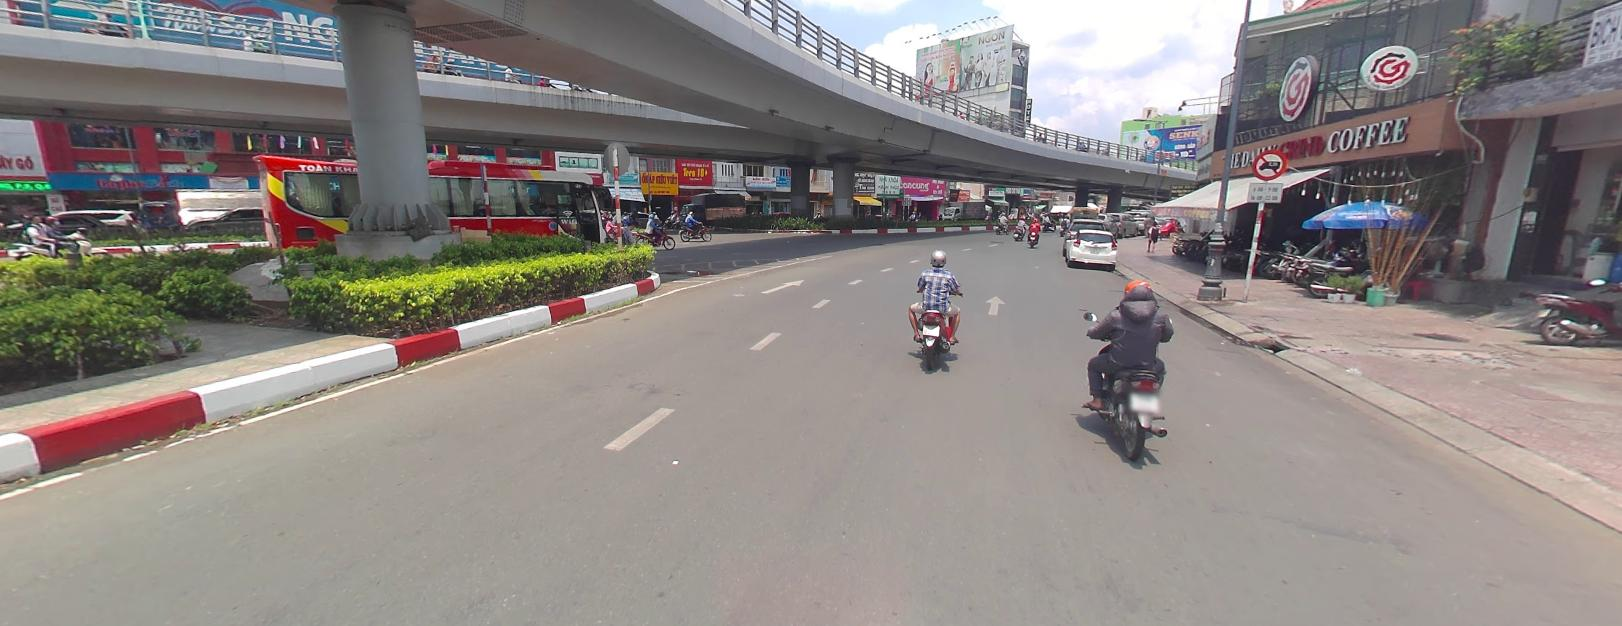Cam con lai: (1252, 146, 1287, 179)
